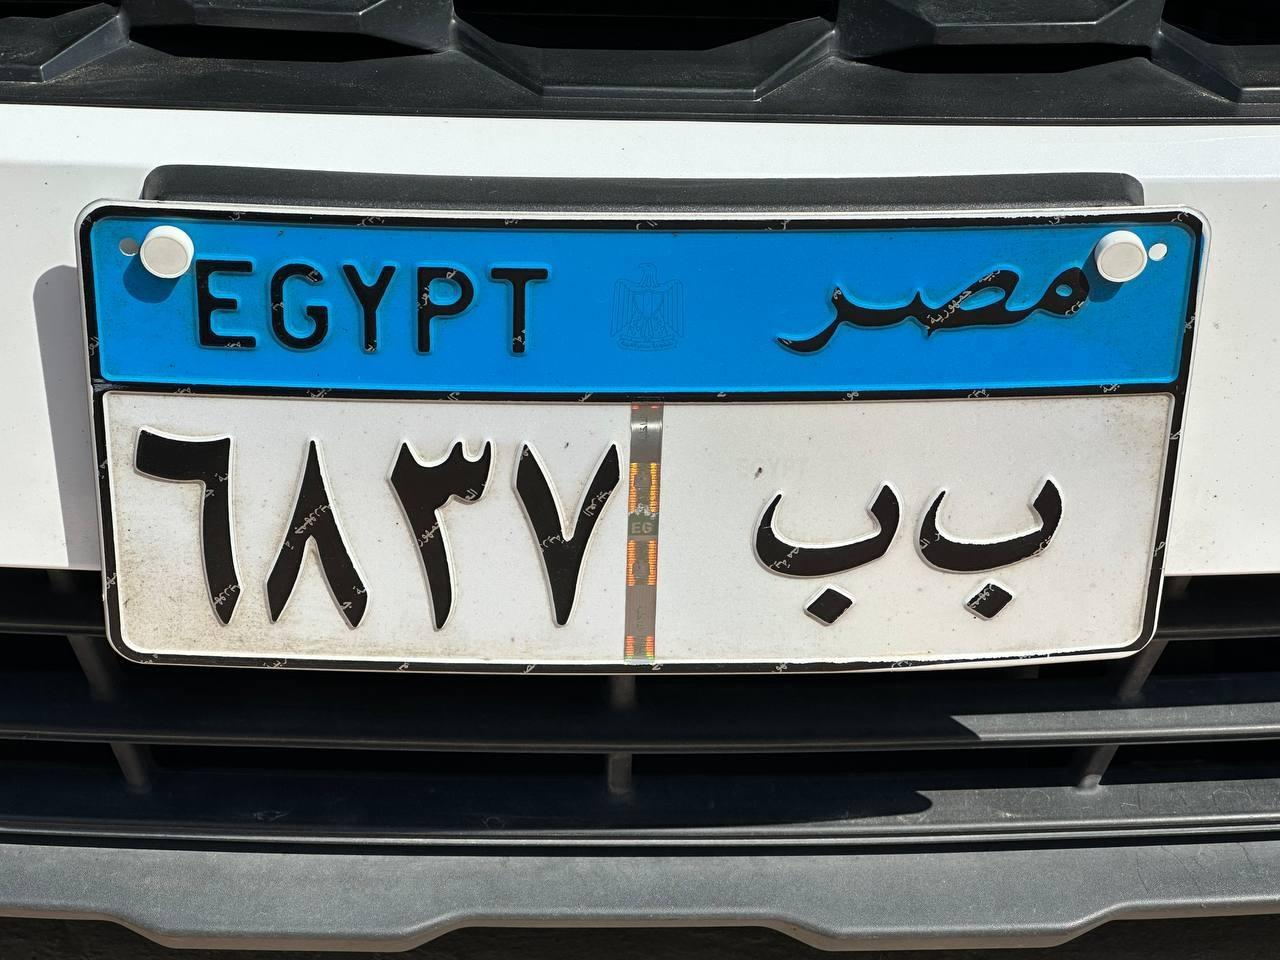3: (377, 428, 500, 638)
6: (118, 427, 252, 632)
7: (504, 432, 628, 626)
8: (248, 427, 378, 632)
License Plate: (73, 187, 1209, 678)
baa: (737, 485, 916, 638), (912, 479, 1082, 638)
